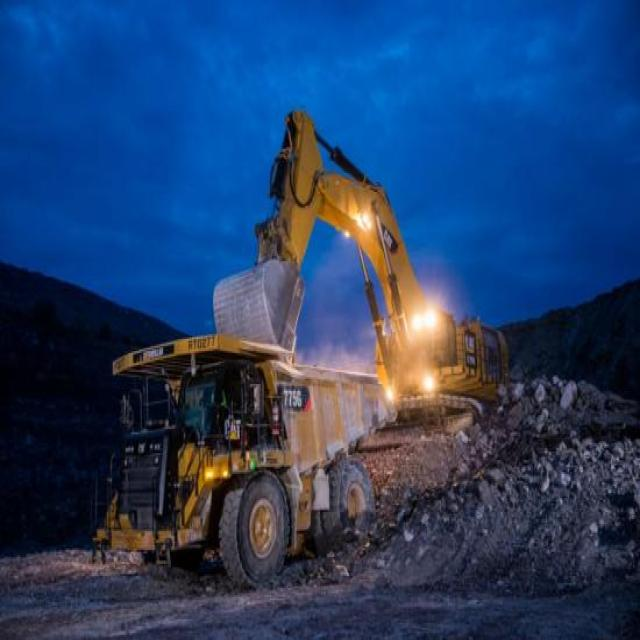dump_truck: (98, 329, 384, 581)
excavator: (214, 102, 506, 452)
